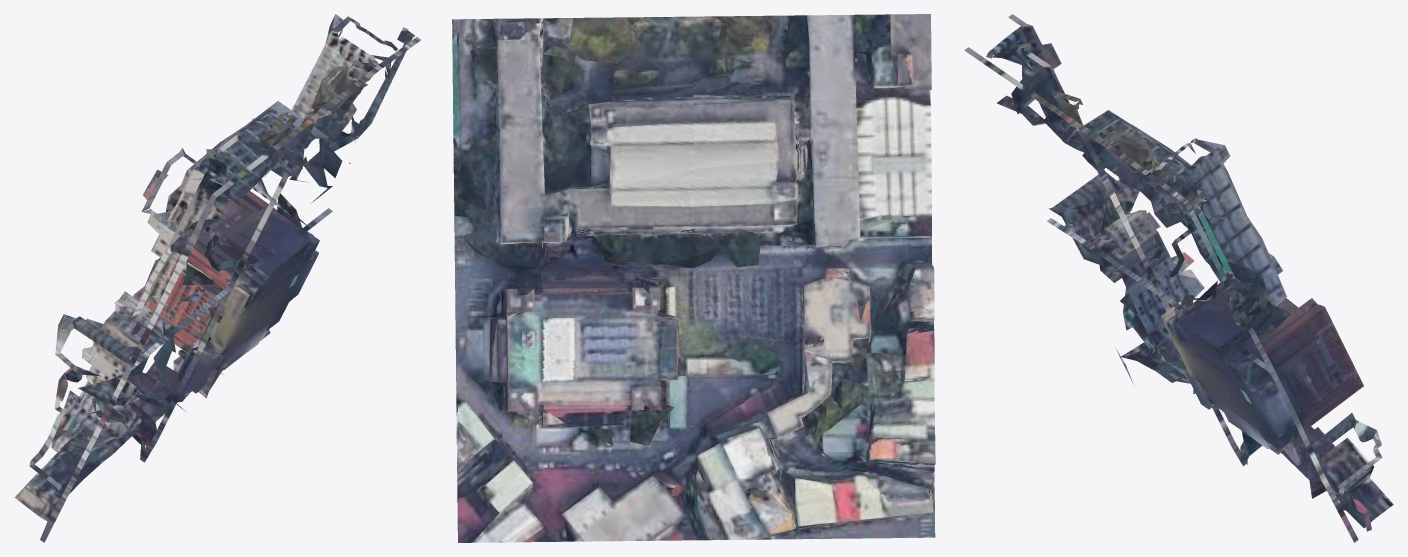
3 views of the same model, side by side, from view 1: azimuth 30°, elevation 25°; view 2: azimuth 150°, elevation 25°; view 3: azimuth 270°, elevation 25° (orthographic). The views are drawn at different scales.
Size of the model in its own units: 157 by 148 by 140.
Materials: 2 (2 with a texture image).
